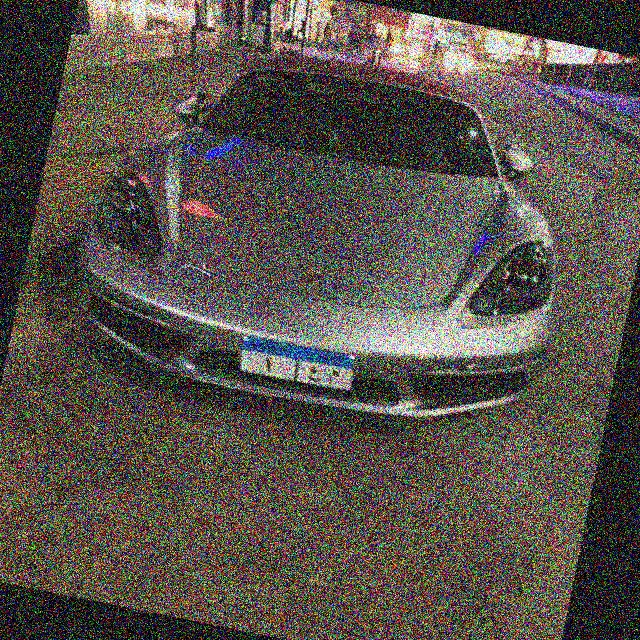License Plate: (231, 328, 363, 395)
